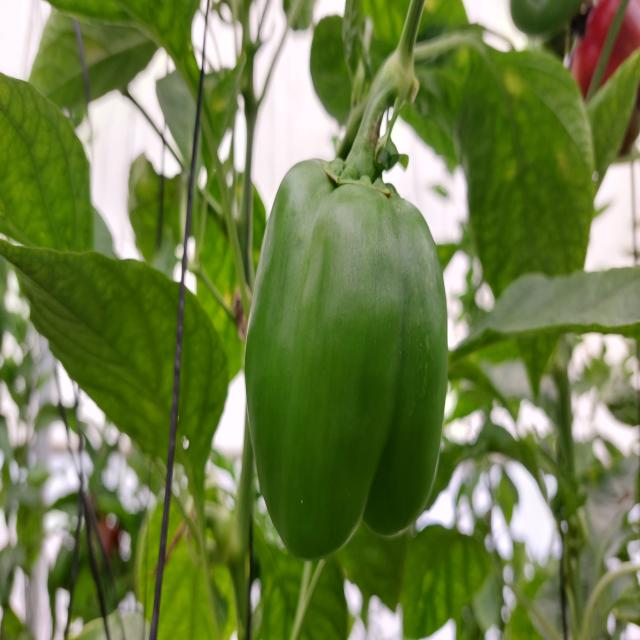Green--Not-ready-to-harvest: (237, 157, 450, 570)
